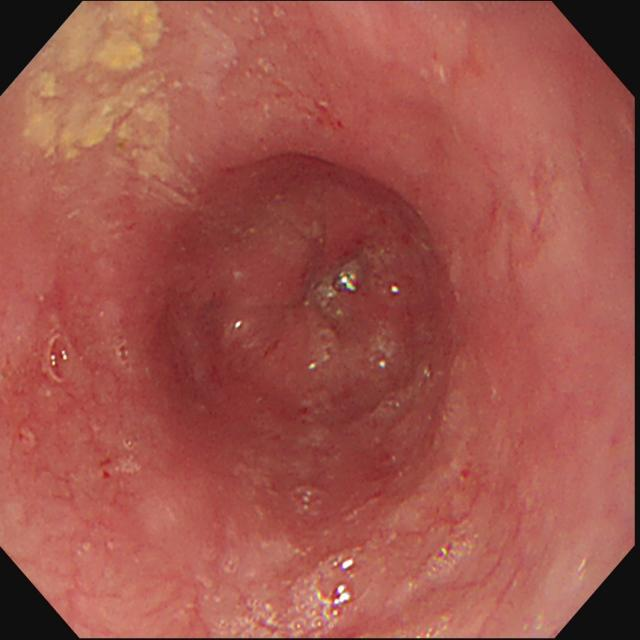I: (234, 199, 414, 398)
J: (24, 2, 176, 181)
T: (246, 550, 355, 639), (46, 335, 76, 387)
